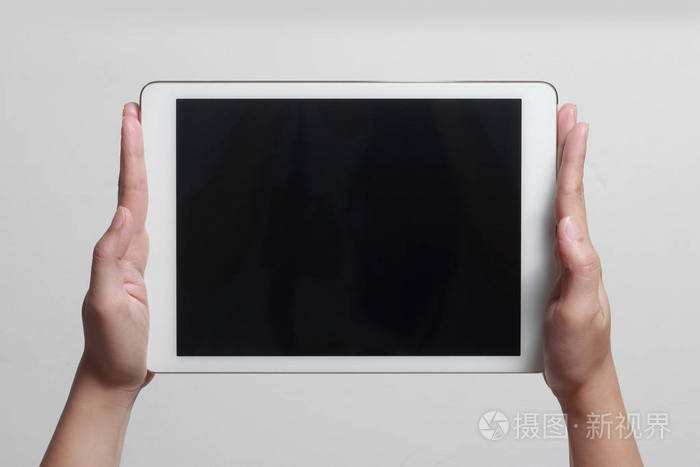pad: (80, 75, 623, 409)
